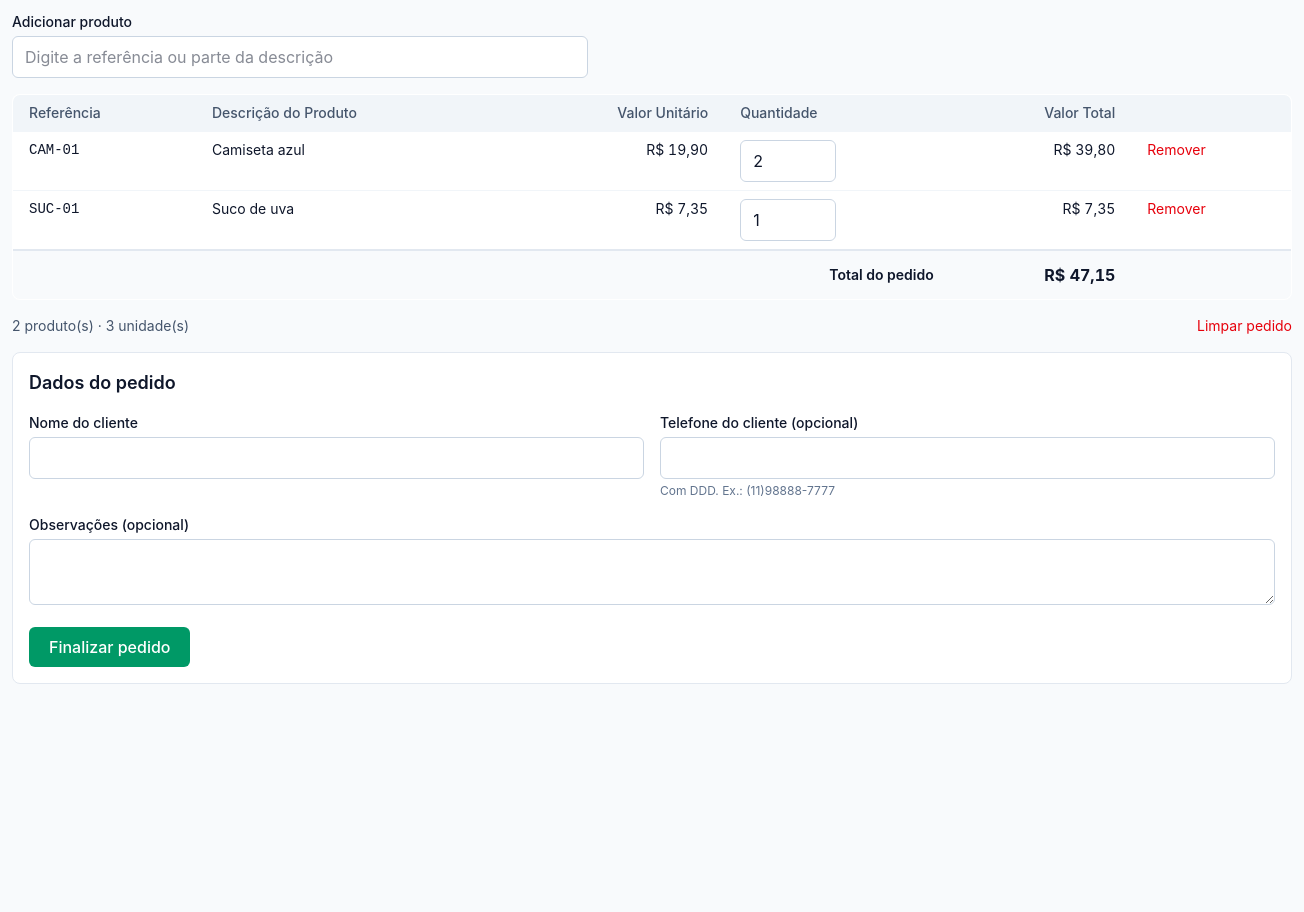
Test: edição e cálculo automático › quantidade inválida 0: avisa, mostra '—' e fica fora do total
The image size is (1304, 912).
Replace the text in the field named "Quantidade de CAM-01" with "0" at (788, 161), box x1=740 y1=140 x2=836 y2=182
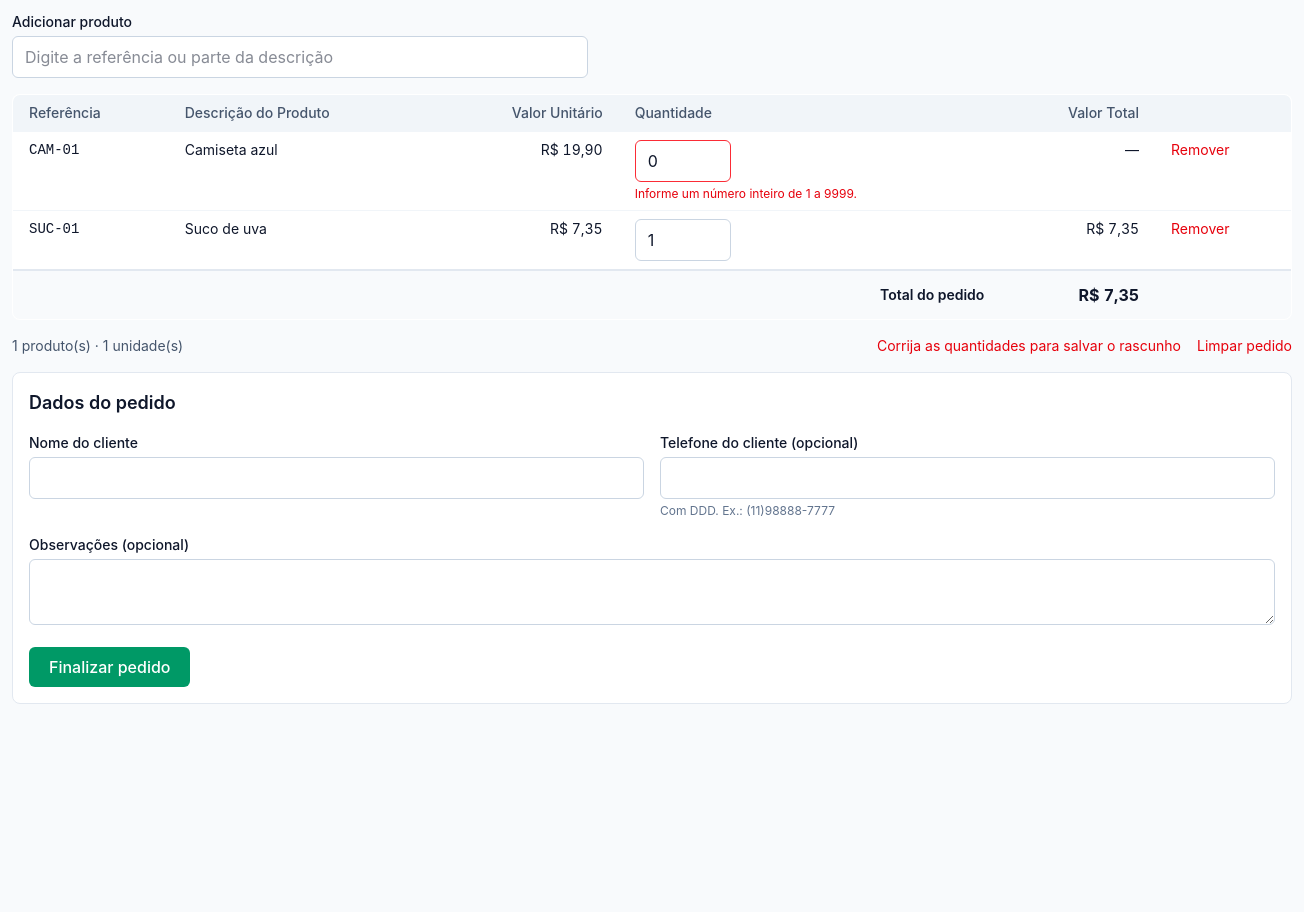
Expected: the message "Informe um número inteiro de 1 a 9999." is shown, x1=635 y1=186 x2=857 y2=201
Expected: the cell with test id "line-total" reads "—", x1=1125 y1=141 x2=1139 y2=158
Expected: the message with test id "save-status" reads "Corrija as quantidades para salvar o rascunho", x1=877 y1=337 x2=1181 y2=354
